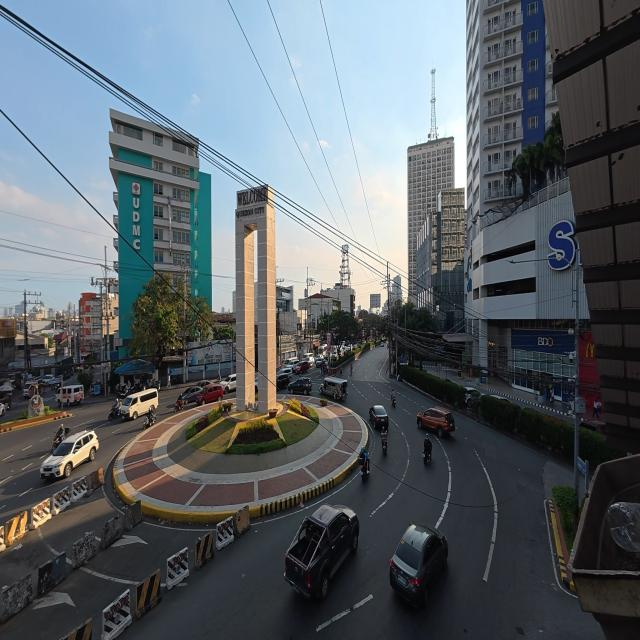Jeepneys: (320, 377, 347, 399)
car: (390, 525, 448, 606), (40, 430, 98, 478), (417, 407, 454, 438), (196, 384, 224, 405), (288, 376, 312, 395), (369, 406, 388, 428), (179, 385, 202, 403), (580, 419, 605, 434), (465, 387, 482, 405), (222, 374, 236, 393), (276, 373, 291, 388), (23, 382, 38, 397), (293, 361, 309, 374), (490, 395, 511, 403), (284, 358, 299, 369), (0, 396, 11, 409), (279, 367, 293, 377), (315, 356, 325, 367), (42, 375, 54, 384), (0, 402, 6, 416)
motorcycle: (52, 427, 70, 453), (108, 402, 120, 421), (144, 411, 156, 429), (361, 460, 369, 482), (423, 447, 431, 465), (381, 432, 387, 454), (175, 398, 184, 412), (151, 379, 161, 391), (392, 398, 396, 408)
trucks: (285, 505, 359, 598)
vans: (121, 388, 158, 419), (55, 384, 84, 406), (304, 353, 314, 366)
